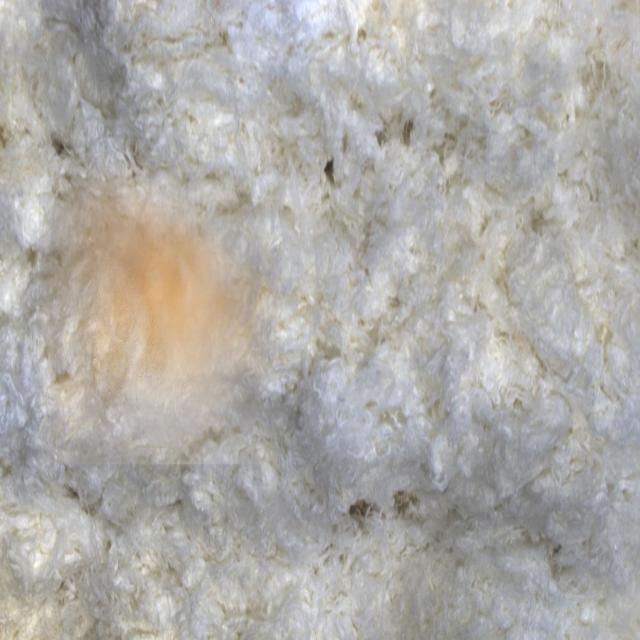dust: (39, 156, 281, 464)
